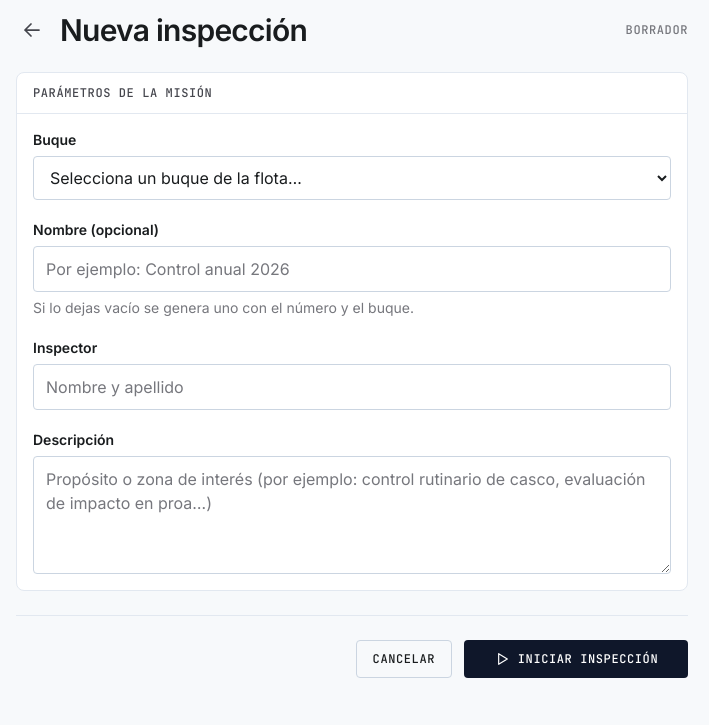
NuevaInspeccionPage › requires a vessel before submitting
Click the button "Iniciar inspección" at (576, 659), box left=464, top=640, right=688, bottom=678
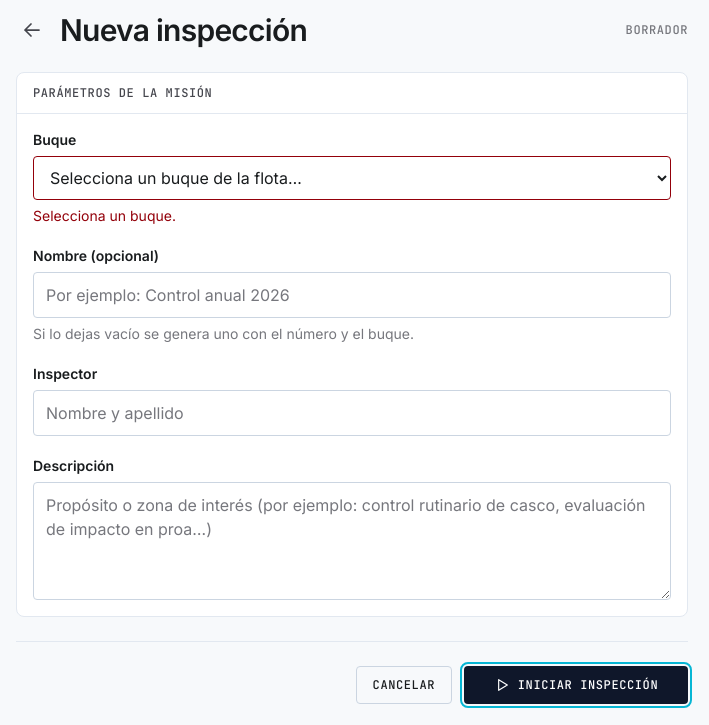
Result: the text "Selecciona un buque." is shown at left=33, top=207, right=176, bottom=224
